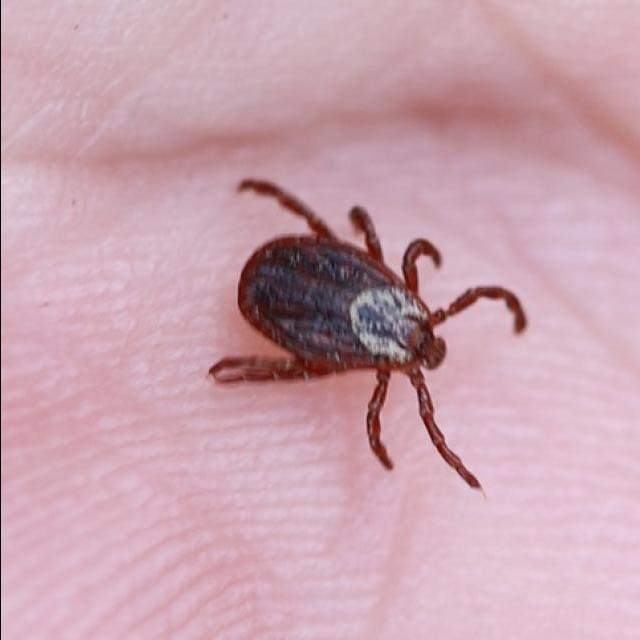Dermacentor Reticulatus-F: (205, 177, 526, 490)
